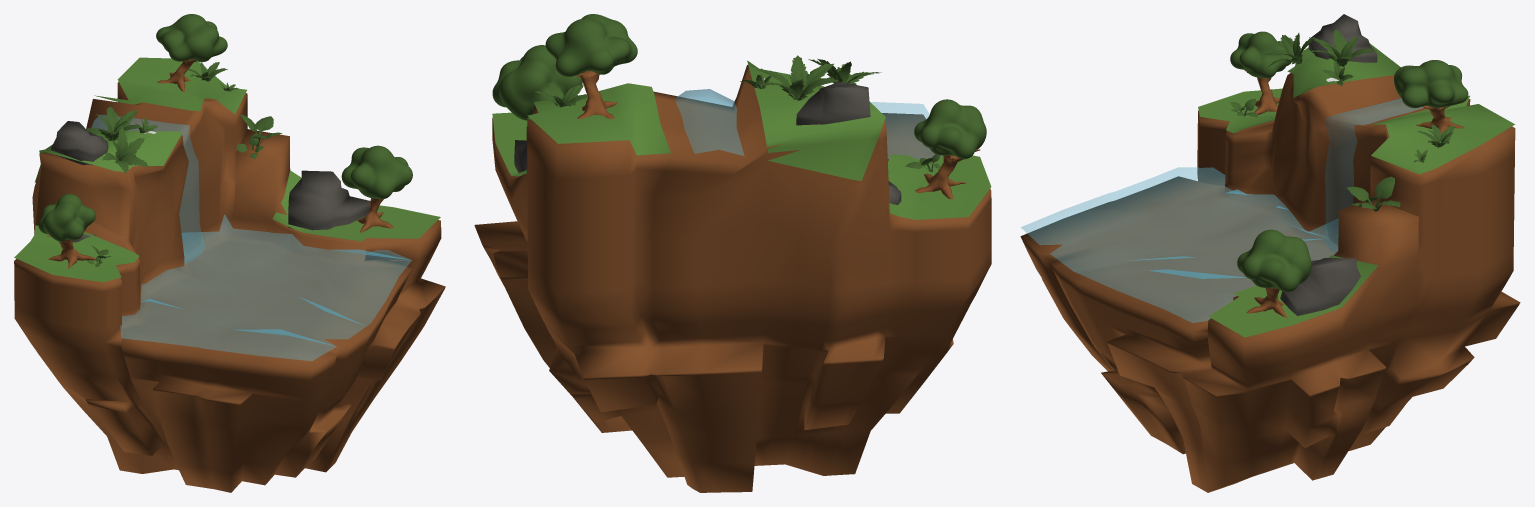
The model's file is Waterfall.glb.
3 renders of one model, left to right at view 1: azimuth 30°, elevation 25°; view 2: azimuth 150°, elevation 25°; view 3: azimuth 270°, elevation 25°, orthographic. The views are drawn at different scales.
Parts seen in each view (by area): view 1: Cube.092, Cube.099, Cube.093, Cube.097, Mball.006, Cube.100, Mball.005, Mball.003, Cube.098, Plane.322, Plane.310, Plane.301 (+2 smaller); view 2: Cube.092, Cube.093, Mball.005, Mball.006, Cube.100, Mball.003, Cube.098, Cube.099, Plane.322, Cube.094, Cube.095, Plane.310 (+1 smaller); view 3: Cube.092, Cube.099, Cube.093, Cube.100, Mball.006, Cube.097, Mball.005, Mball.003, Cube.098, Plane.322, Plane.301, Plane.310 (+3 smaller).
Boxes of the visible parts, left/top/right/bottom form: Cube.092: left=14, top=82, right=445, bottom=492; Cube.099: left=120, top=215, right=411, bottom=360; Cube.093: left=14, top=57, right=440, bottom=282; Cube.097: left=288, top=170, right=370, bottom=230; Mball.006: left=341, top=145, right=412, bottom=199; Cube.100: left=92, top=115, right=204, bottom=263; Mball.005: left=156, top=14, right=227, bottom=62; Mball.003: left=38, top=194, right=95, bottom=241; Cube.098: left=51, top=121, right=108, bottom=165; Plane.322: left=86, top=106, right=157, bottom=140; Plane.310: left=102, top=126, right=148, bottom=173; Plane.301: left=236, top=114, right=282, bottom=158; Cube.092: left=474, top=65, right=991, bottom=492; Cube.093: left=492, top=60, right=991, bottom=219; Mball.005: left=545, top=14, right=637, bottom=76; Mball.006: left=492, top=45, right=582, bottom=120; Cube.100: left=675, top=89, right=743, bottom=155; Mball.003: left=914, top=99, right=986, bottom=159; Cube.098: left=796, top=82, right=870, bottom=125; Cube.099: left=871, top=102, right=942, bottom=159; Plane.322: left=740, top=55, right=838, bottom=100; Cube.094: left=577, top=71, right=617, bottom=119; Cube.095: left=915, top=149, right=980, bottom=199; Plane.310: left=808, top=58, right=881, bottom=84; Cube.092: left=1020, top=73, right=1520, bottom=492; Cube.099: left=1021, top=167, right=1338, bottom=322; Cube.093: left=1198, top=43, right=1514, bottom=337; Cube.100: left=1325, top=98, right=1423, bottom=252; Mball.006: left=1237, top=229, right=1311, bottom=292; Cube.097: left=1280, top=258, right=1360, bottom=315; Mball.005: left=1394, top=60, right=1468, bottom=108; Mball.003: left=1230, top=31, right=1291, bottom=78; Cube.098: left=1308, top=14, right=1377, bottom=62; Plane.322: left=1309, top=29, right=1374, bottom=86; Plane.301: left=1346, top=176, right=1400, bottom=211; Plane.310: left=1263, top=33, right=1315, bottom=67.
Size of the model in its own units: 6.24 by 5.75 by 6.25.
